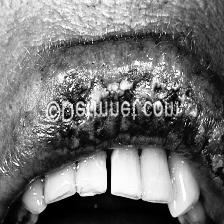Potentially Malignant Skin Tumors: (86, 58, 132, 111), (140, 71, 160, 106)
